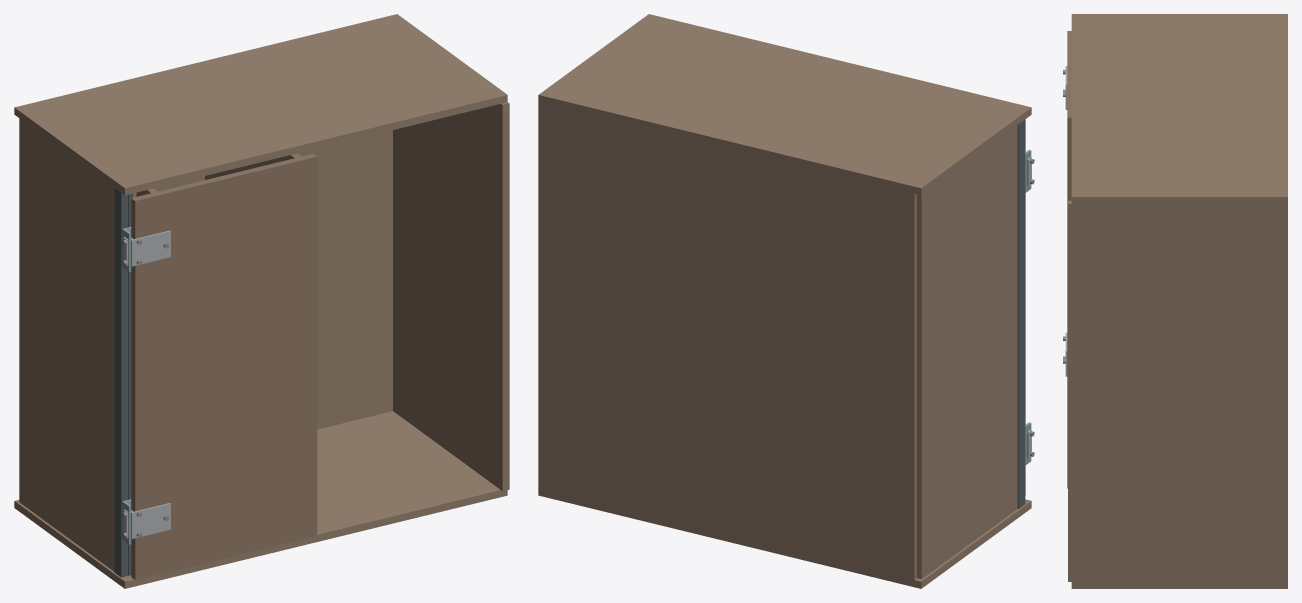
The model's file is closed.glb.
The picture shows the model from 3 angles, left to right: view 1: azimuth 30°, elevation 25°; view 2: azimuth 150°, elevation 25°; view 3: azimuth 270°, elevation 25°; orthographic projection. The views are drawn at different scales.
Visible parts, largest first — view 1: Door-face-18, Top-18, Opposite-side-18, Side-12, Back-12, Bottom-18, Post-30x30, DIRAK-moving-flat-2, DIRAK-moving-flat-1; view 2: Back-12, Top-18, Side-12, Bottom-18, Post-30x30, Opposite-side-18; view 3: Opposite-side-18, Top-18, Bottom-18, Door-face-18.
Part boxes in pixels (bbox=[...]): Door-face-18: bbox=[131, 154, 317, 579]; Top-18: bbox=[14, 14, 507, 195]; Opposite-side-18: bbox=[393, 102, 509, 491]; Side-12: bbox=[19, 118, 114, 571]; Back-12: bbox=[133, 130, 392, 429]; Bottom-18: bbox=[14, 411, 507, 588]; Post-30x30: bbox=[114, 188, 132, 577]; DIRAK-moving-flat-2: bbox=[131, 230, 170, 266]; DIRAK-moving-flat-1: bbox=[131, 503, 170, 538]; Back-12: bbox=[545, 104, 916, 579]; Top-18: bbox=[538, 14, 1031, 195]; Side-12: bbox=[917, 125, 1017, 579]; Bottom-18: bbox=[538, 488, 1031, 588]; Post-30x30: bbox=[1017, 120, 1025, 508]; Opposite-side-18: bbox=[538, 102, 545, 489]; Opposite-side-18: bbox=[1068, 200, 1287, 581]; Top-18: bbox=[1071, 14, 1287, 203]; Bottom-18: bbox=[1071, 582, 1287, 588]; Door-face-18: bbox=[1067, 31, 1071, 488].
Size of the model in its own units: 1 by 1 by 0.5195.
